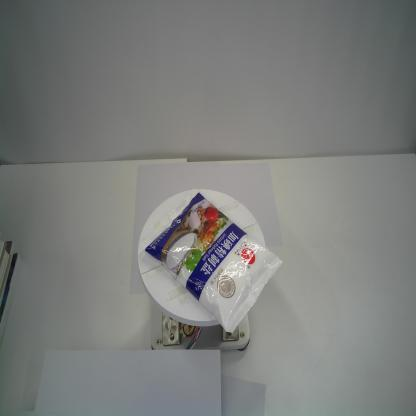Seasoner: (139, 189, 284, 334)
